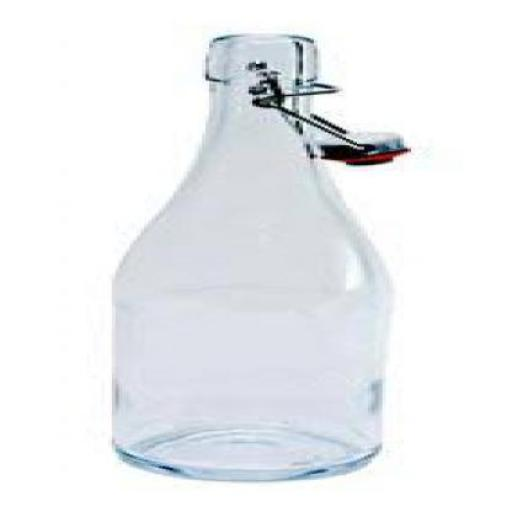glass: (108, 33, 376, 481)
plastic: (306, 130, 404, 165)
